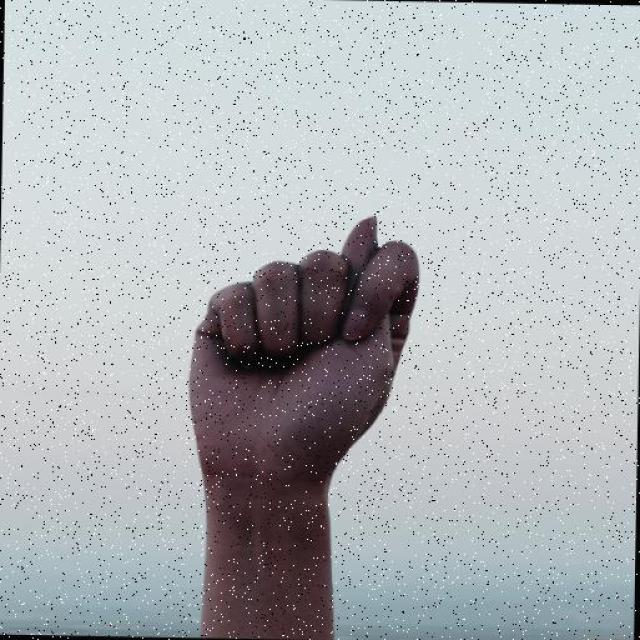T: (182, 209, 428, 493)
